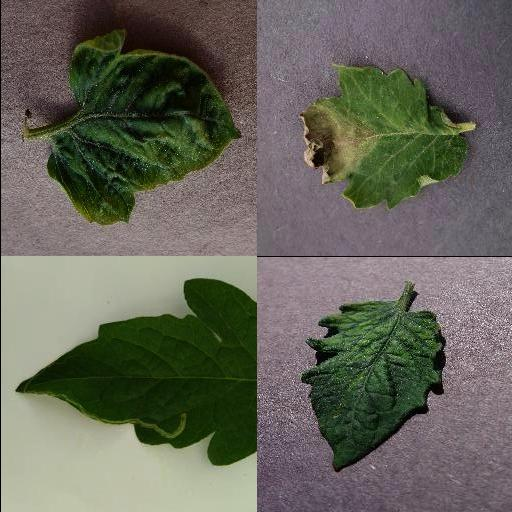Late Blight: (297, 65, 467, 209)
Leaf Miner: (12, 278, 256, 466)
Mosaic Virus: (300, 300, 446, 474)
Yellow Leaf Curl Virus: (39, 26, 241, 225)
